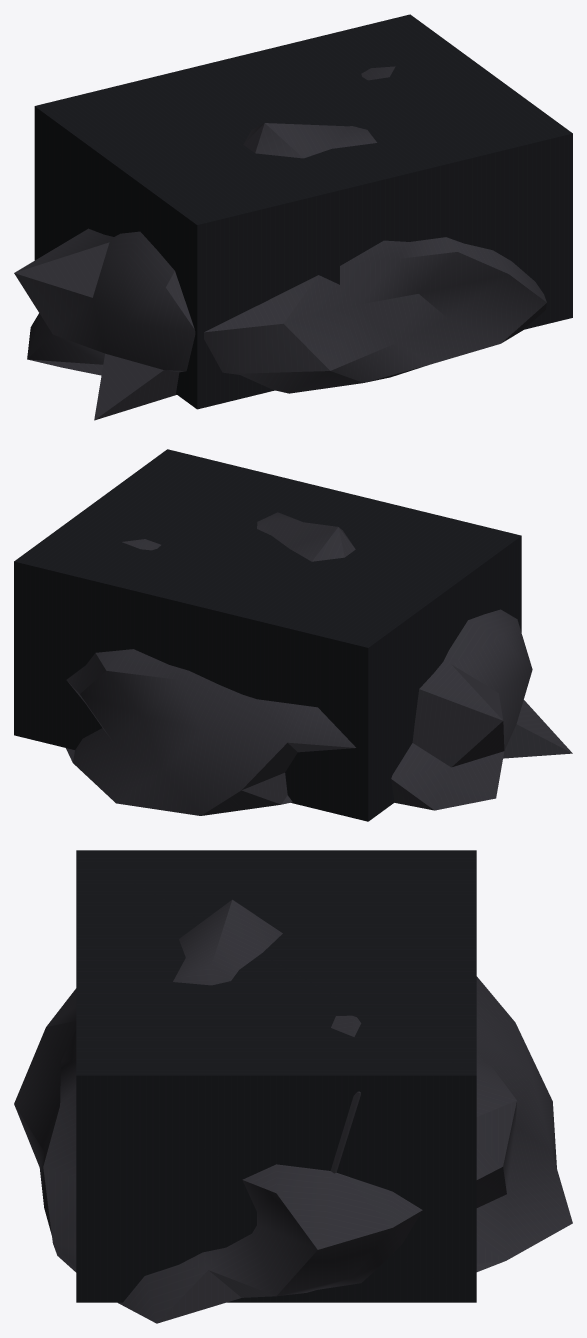
File: kit_rock.glb
The picture shows the model from 3 angles, top to bottom: view 1: azimuth 30°, elevation 25°; view 2: azimuth 150°, elevation 25°; view 3: azimuth 270°, elevation 25°; orthographic projection. The views are drawn at different scales.
Visible parts, largest first — view 1: rock_COL, rock_mesh; view 2: rock_COL, rock_mesh; view 3: rock_COL, rock_mesh.
Boxes of the visible parts, bbox=[...] form: rock_COL: bbox=[34, 14, 572, 409]; rock_mesh: bbox=[14, 66, 546, 420]; rock_COL: bbox=[14, 449, 521, 821]; rock_mesh: bbox=[66, 512, 572, 815]; rock_COL: bbox=[76, 850, 476, 1302]; rock_mesh: bbox=[14, 899, 572, 1323].
Bounding box in the file's own units: 3.55 × 1.42 × 2.68.
Materials: 2 (2 with a texture image).
